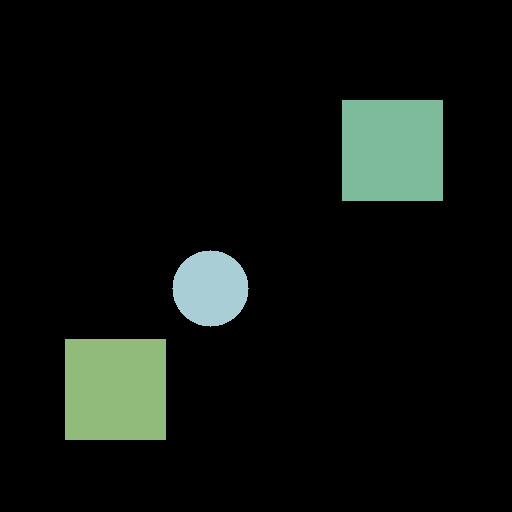circle: (172, 250, 248, 326)
square: (65, 339, 165, 439), (342, 100, 442, 200)
